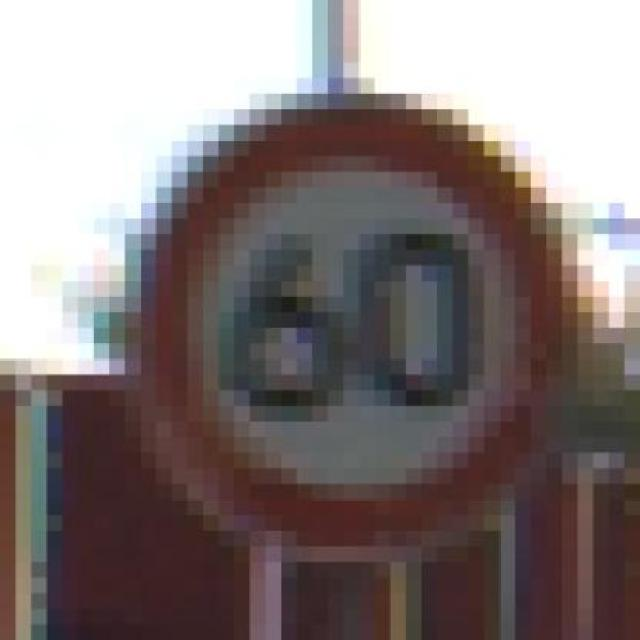forb_speed_over_60: (144, 102, 561, 545)
